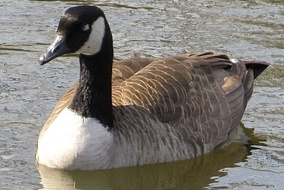goose: (32, 4, 273, 178)
